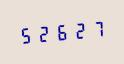five: (18, 23, 34, 46)
seven: (86, 17, 102, 40)
six: (52, 20, 68, 43)
two: (35, 22, 51, 44), (69, 19, 85, 41)
